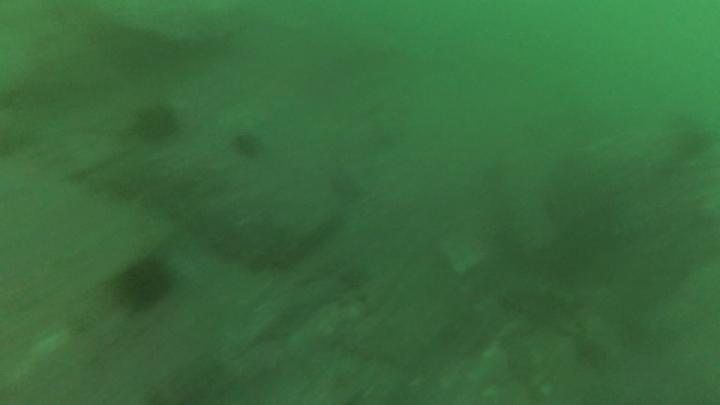echinus: (116, 263, 171, 305), (136, 110, 174, 142), (236, 136, 258, 157)
